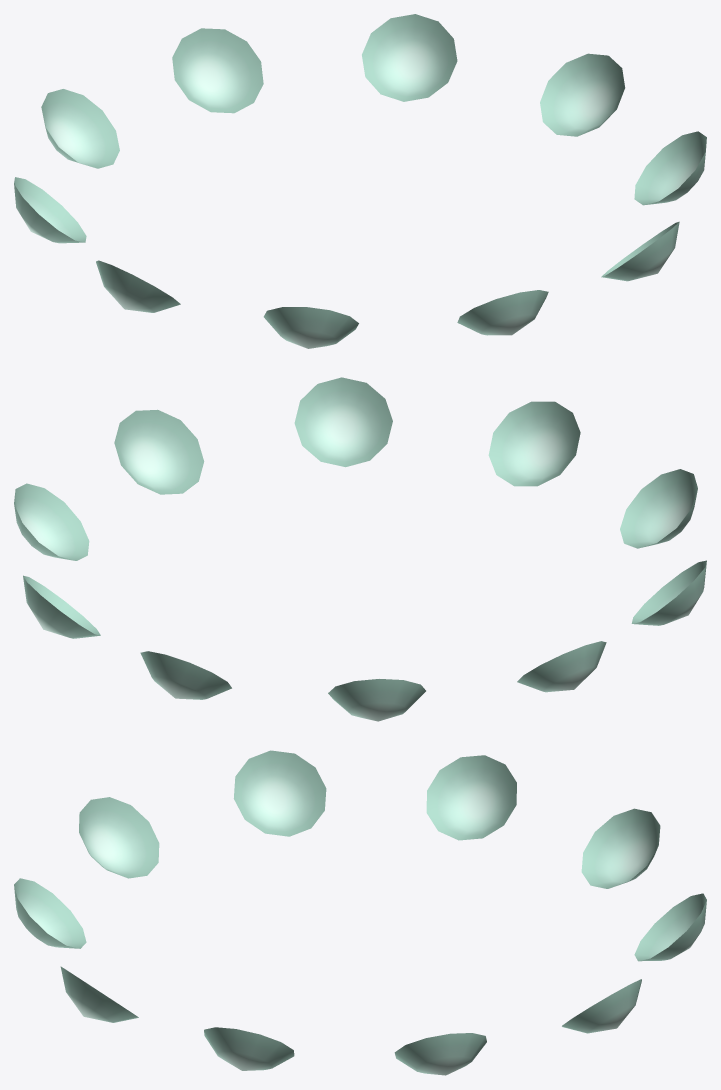
Rendered from zhonglishi_zhuzideng.FBX.
3 views of the same model, one above another, from view 1: azimuth 30°, elevation 25°; view 2: azimuth 150°, elevation 25°; view 3: azimuth 270°, elevation 25° (orthographic). The views are drawn at different scales.
Visible parts, largest first — view 1: zhonglishi_zhuzideng; view 2: zhonglishi_zhuzideng; view 3: zhonglishi_zhuzideng.
Part boxes in pixels (bbox=[...]): zhonglishi_zhuzideng: bbox=[14, 14, 706, 348]; zhonglishi_zhuzideng: bbox=[14, 377, 706, 721]; zhonglishi_zhuzideng: bbox=[14, 750, 706, 1075].
Bounding box in the file's own units: 293 × 27.97 × 302.
